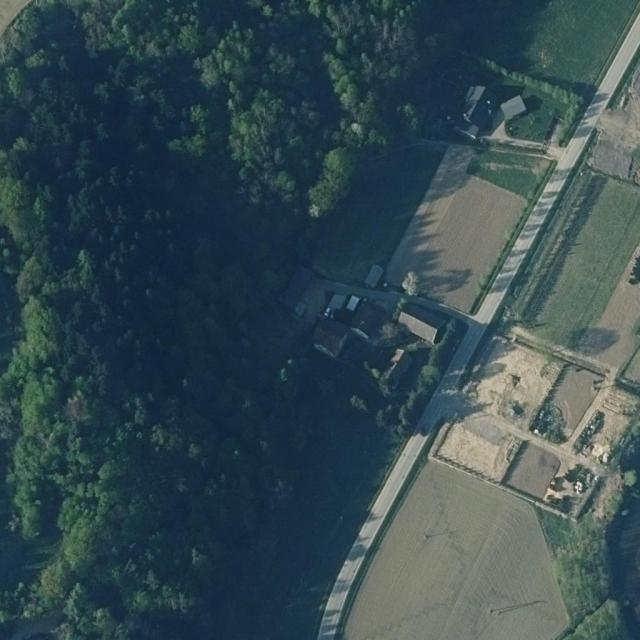agricultural_land: (344, 461, 569, 639), (505, 129, 640, 360), (380, 140, 540, 325), (298, 112, 449, 301), (435, 407, 565, 505), (463, 329, 565, 433), (526, 357, 605, 452), (466, 131, 554, 203), (569, 480, 591, 495)
building: (452, 82, 504, 143), (395, 299, 446, 345), (307, 315, 352, 360), (378, 346, 415, 392), (498, 95, 527, 121), (329, 295, 361, 318), (361, 262, 386, 291)
greenland: (477, 35, 588, 126), (527, 507, 576, 556)
